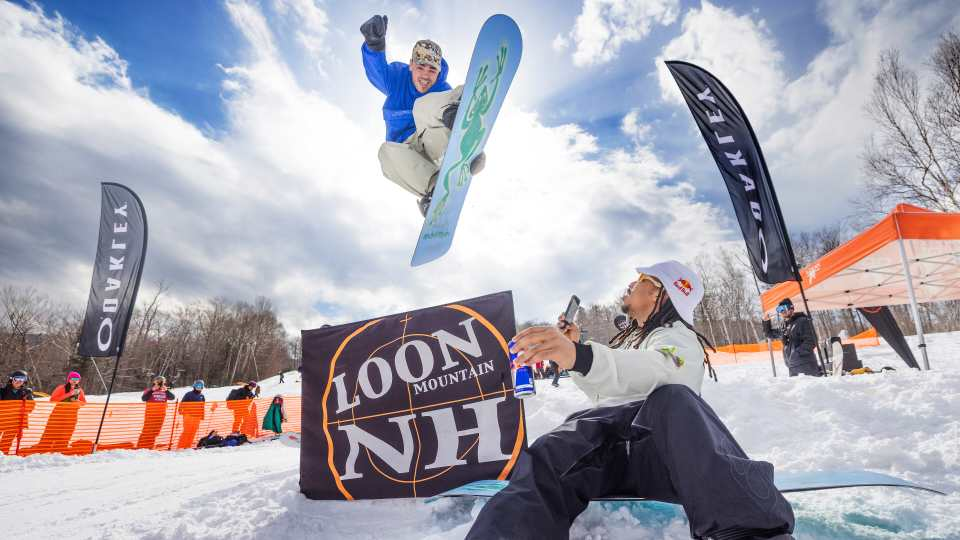snowboarder: (351, 13, 527, 274)
